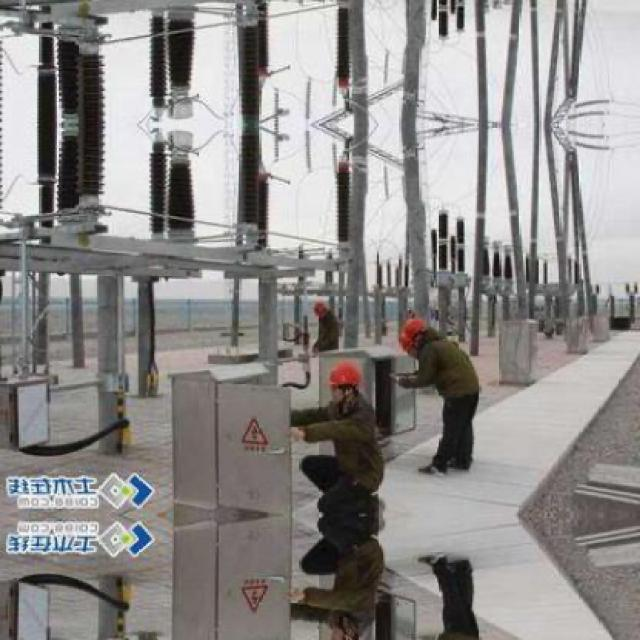con casco: (297, 357, 376, 413), (383, 305, 449, 354)
